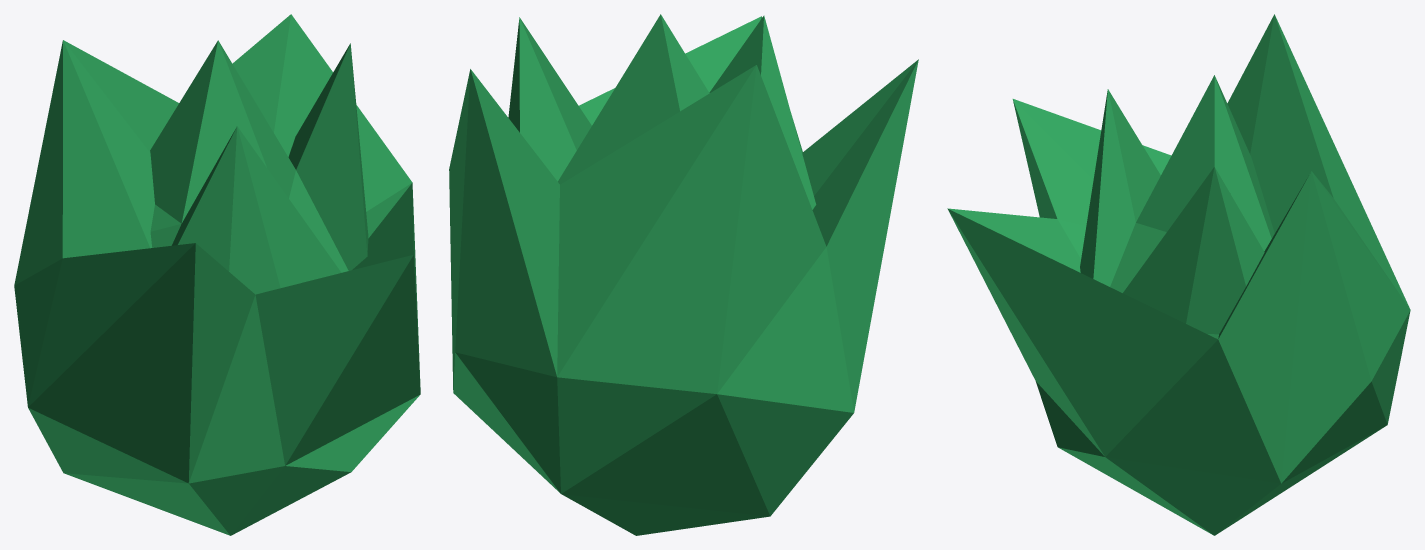
File: bush12.fbx
3 views of the same model, side by side, from view 1: azimuth 30°, elevation 25°; view 2: azimuth 150°, elevation 25°; view 3: azimuth 270°, elevation 25° (orthographic). The views are drawn at different scales.
Visible parts, largest first — view 1: bush12; view 2: bush12; view 3: bush12.
Boxes of the visible parts, left/top/right/bottom form: bush12: left=14, top=14, right=420, bottom=535; bush12: left=449, top=14, right=918, bottom=535; bush12: left=947, top=14, right=1410, bottom=535.
Bounding box in the file's own units: 75.66 × 90.28 × 86.34.
